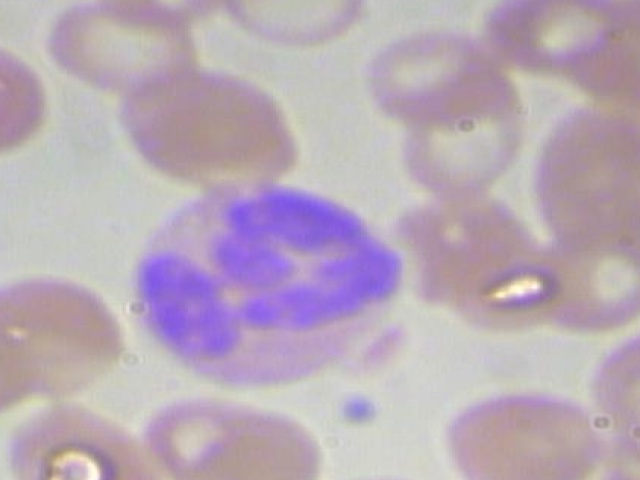Platelets: (334, 384, 387, 432)
RBC: (115, 62, 314, 191), (376, 75, 534, 206), (349, 16, 516, 128), (440, 373, 607, 480), (0, 269, 129, 404), (531, 103, 640, 260), (39, 0, 204, 102), (133, 394, 328, 480), (0, 402, 154, 480), (209, 0, 377, 46), (0, 42, 58, 154), (582, 321, 640, 432), (73, 0, 246, 32)
WBC: (96, 169, 415, 393)
